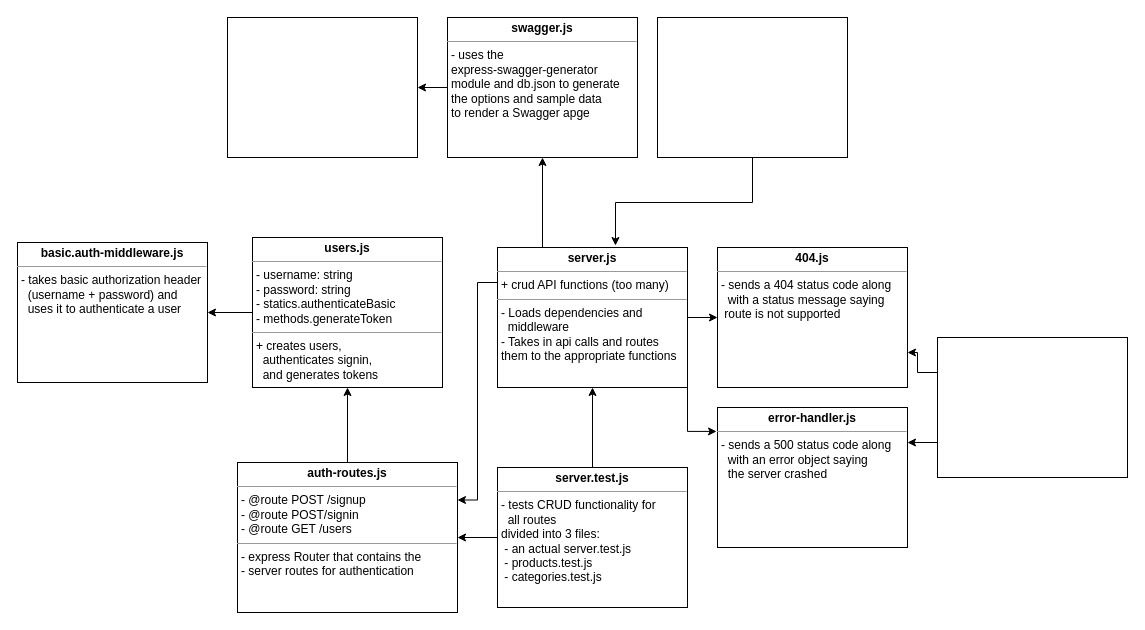
The diagram is 1145 pixels wide and 630 high, and some of its shapes have lost their labels. The centre of each missing label's shape, as x and y in pixels:
"db.json - contains sample data to use for Swagger examples" belongs at pixel 322 87.
"index.js - main entrypoint - starts the server using desired configuration" belongs at pixel 752 87.
"middleware.test.js -tests functionality middleware" belongs at pixel 1032 407.
